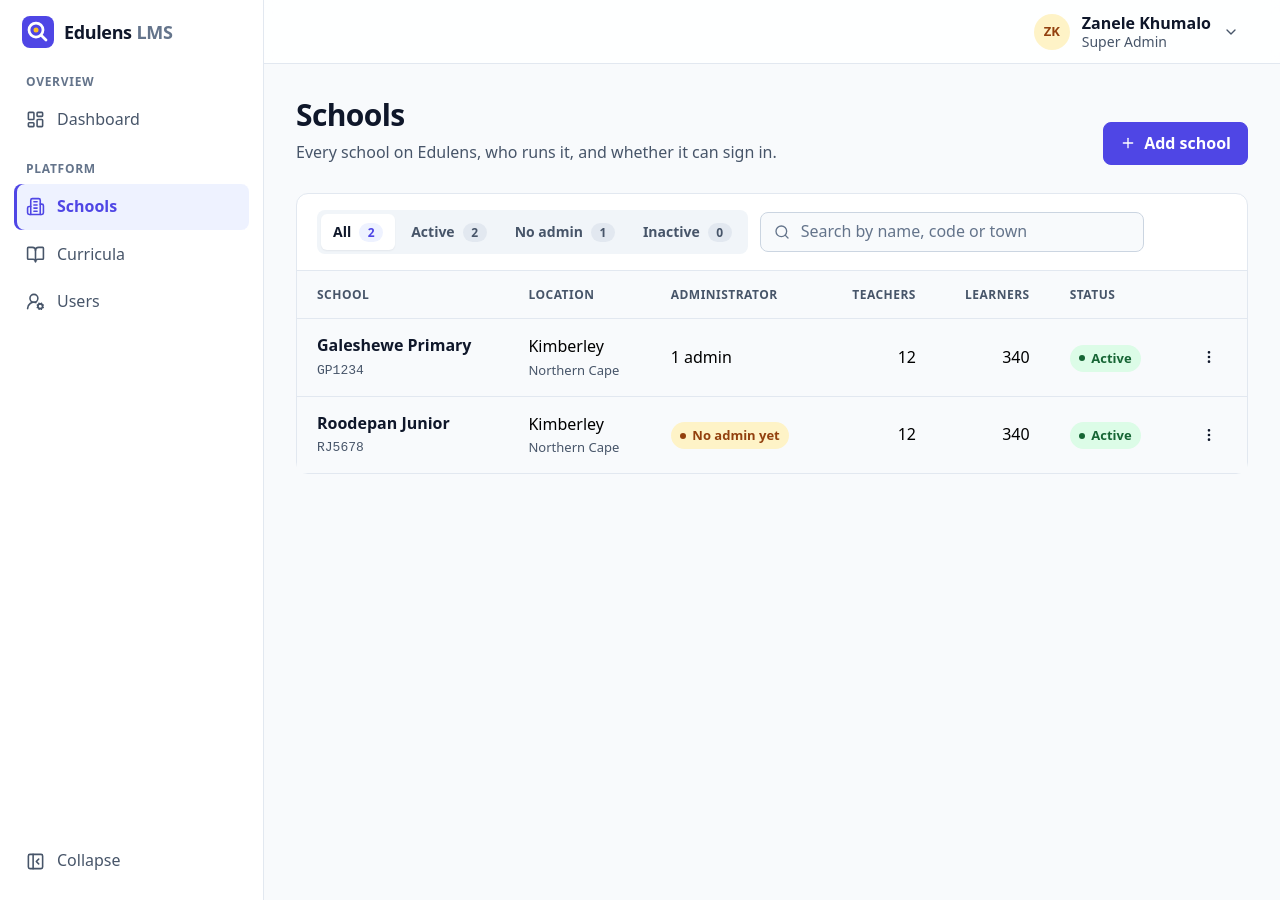
it: Schools list › asks the server for the chosen filter
Check: the text "Galeshewe Primary" is shown, box [317,333,488,359]
Click the tab "No admin 1" at (565, 232), box [503,214,627,250]
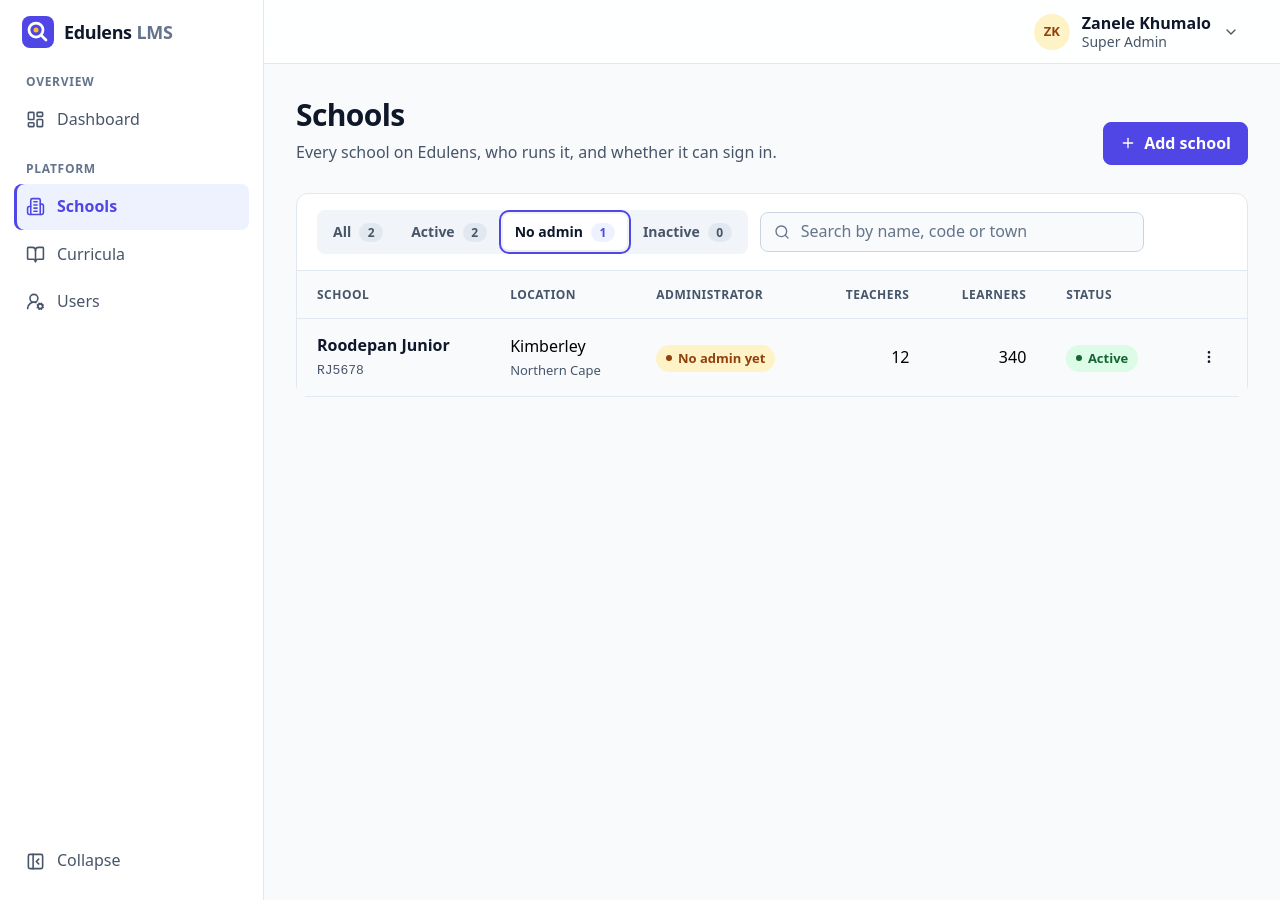
Check: the text "Galeshewe Primary" is gone
